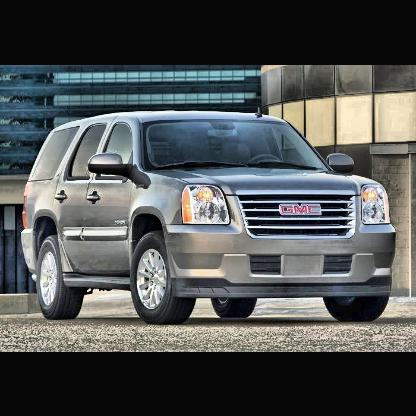GMC Yukon Hybrid SUV 2012: (23, 108, 397, 327)
